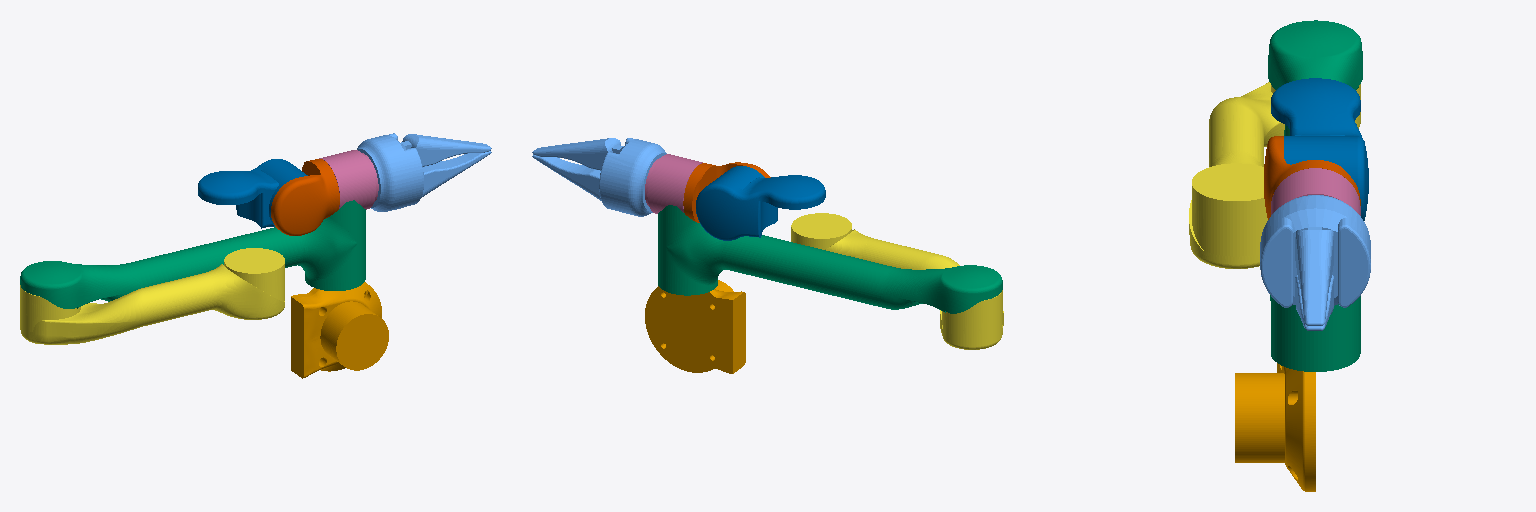
URDF robot description (z1):
<?xml version="1.0" ?>
<!-- =================================================================================== -->
<!-- |    This document was autogenerated by xacro from robot.xacro                    | -->
<!-- |    EDITING THIS FILE BY HAND IS NOT RECOMMENDED                                 | -->
<!-- =================================================================================== -->
<robot name="z1">
  <link name="base_link">
    <visual>
      <origin rpy="0 0 0" xyz="0 0 0"/>
      <geometry>
        <mesh filename="../meshes/z1_Link00_flip.dae" scale="1 1 1"/>
      </geometry>
    </visual>
    <collision>
      <geometry>
        <cylinder length="0.051" radius="0.0325"/>
      </geometry>
      <origin rpy="0 0 0" xyz="0 0 0.0255"/>
    </collision>
    <inertial>
      <origin rpy="0 0 0" xyz="-0.00334984 -0.00013615 0.02495843"/>
      <mass value="0.47247481"/>
      <inertia ixx="0.00037937" ixy="3.5e-07" ixz="1.037e-05" iyy="0.00041521" iyz="9.9e-07" izz="0.00053066"/>
    </inertial>
  </link>
  <joint name="joint1" type="revolute">
    <origin rpy="0 0 0" xyz="0 0 0.0585"/>
    <parent link="base_link"/>
    <child link="link01"/>
    <axis xyz="0 0 1"/>
    <dynamics damping="1.0" friction="1.0"/>
    <limit effort="30.0" lower="-2.6179938779914944" upper="2.6179938779914944" velocity="10"/>
  </joint>
  <link name="link01">
    <visual>
      <origin rpy="0 0 0" xyz="0 0 0"/>
      <geometry>
        <mesh filename="../meshes/z1_Link01_flip.dae" scale="1 1 1"/>
      </geometry>
    </visual>
    <!-- <collision>
            <geometry>
                <cylinder length="${2*motor_height}" radius="${motor_diameter}"/>
            </geometry>
            <origin rpy="0 0 0" xyz="0 0 0"/>
        </collision> -->
    <inertial>
      <origin rpy="0 0 0" xyz="2.47e-06 -0.00025198 0.02317169"/>
      <mass value="0.67332551"/>
      <inertia ixx="0.00128328" ixy="6e-08" ixz="4e-07" iyy="0.00071931" iyz="-5e-07" izz="0.00083936"/>
    </inertial>
  </link>
  <joint name="joint2" type="revolute">
    <origin rpy="0 0 0" xyz="0 0 0.045"/>
    <parent link="link01"/>
    <child link="link02"/>
    <axis xyz="0 1 0"/>
    <dynamics damping="2.0" friction="2.0"/>
    <limit effort="60.0" lower="0.0" upper="3.141592653589793" velocity="10"/>
  </joint>
  <link name="link02">
    <visual>
      <origin rpy="0 0 0" xyz="0 0 0"/>
      <geometry>
        <mesh filename="../meshes/z1_Link02_flip.dae" scale="1 1 1"/>
      </geometry>
    </visual>
    <collision>
      <geometry>
        <cylinder length="0.102" radius="0.0325"/>
      </geometry>
      <origin rpy="1.5707963267948966 0 0" xyz="0 0 0"/>
    </collision>
    <collision>
      <geometry>
        <cylinder length="0.235" radius="0.0225"/>
      </geometry>
      <origin rpy="0 1.5707963267948966 0" xyz="-0.16249999999999998 0 0"/>
    </collision>
    <collision>
      <geometry>
        <cylinder length="0.051" radius="0.0325"/>
      </geometry>
      <origin rpy="1.5707963267948966 0 0" xyz="-0.35 0 0"/>
    </collision>
    <inertial>
      <origin rpy="0 0 0" xyz="-0.11012601 0.00240029 0.00158266"/>
      <mass value="1.19132258"/>
      <inertia ixx="0.00102138" ixy="-0.00062358" ixz="-5.13e-06" iyy="0.02429457" iyz="2.1e-06" izz="0.02466114"/>
    </inertial>
  </link>
  <joint name="joint3" type="revolute">
    <origin rpy="0 0 0" xyz="-0.35 0 0"/>
    <parent link="link02"/>
    <child link="link03"/>
    <axis xyz="0 1 0"/>
    <dynamics damping="1.0" friction="1.0"/>
    <limit effort="30.0" lower="-4.782202150464463" upper="0.0" velocity="10"/>
  </joint>
  <link name="link03">
    <visual>
      <origin rpy="0 0 0" xyz="0 0 0"/>
      <geometry>
        <mesh filename="../meshes/z1_Link03_flip.dae" scale="1 1 1"/>
      </geometry>
    </visual>
    <collision>
      <geometry>
        <cylinder length="0.116" radius="0.02"/>
      </geometry>
      <origin rpy="0 1.5707963267948966 0" xyz="0.128 0 0.055"/>
    </collision>
    <collision>
      <geometry>
        <cylinder length="0.059" radius="0.0325"/>
      </geometry>
      <origin rpy="0 1.5707963267948966 0" xyz="0.2205 0 0.055"/>
    </collision>
    <inertial>
      <origin rpy="0 0 0" xyz="0.10609208 -0.00541815 0.03476383"/>
      <mass value="0.83940874"/>
      <inertia ixx="0.00108061" ixy="8.669e-05" ixz="0.00208102" iyy="0.00954238" iyz="1.332e-05" izz="0.00886621"/>
    </inertial>
  </link>
  <joint name="joint4" type="revolute">
    <origin rpy="0 0 0" xyz="0.218 0 0.057"/>
    <parent link="link03"/>
    <child link="link04"/>
    <axis xyz="0 1 0"/>
    <dynamics damping="1.0" friction="1.0"/>
    <limit effort="30.0" lower="-1.7453292519943295" upper="1.5707963267948966" velocity="10"/>
  </joint>
  <link name="link04">
    <visual>
      <origin rpy="0 0 0" xyz="0 0 0"/>
      <geometry>
        <mesh filename="../meshes/z1_Link04_flip.dae" scale="1 1 1"/>
      </geometry>
    </visual>
    <collision>
      <geometry>
        <cylinder length="0.07" radius="0.0325"/>
      </geometry>
      <origin rpy="0 0 0" xyz="0.07 0 0"/>
    </collision>
    <inertial>
      <origin rpy="0 0 0" xyz="0.04366681 0.00364738 -0.00170192"/>
      <mass value="0.56404563"/>
      <inertia ixx="0.00031576" ixy="-8.13e-05" ixz="-4.091e-05" iyy="0.00092996" iyz="5.96e-06" izz="0.00097912"/>
    </inertial>
  </link>
  <joint name="joint5" type="revolute">
    <origin rpy="0 0 0" xyz="0.07 0.0 0.0"/>
    <parent link="link04"/>
    <child link="link05"/>
    <axis xyz="0 0 1"/>
    <dynamics damping="1.0" friction="1.0"/>
    <limit effort="30.0" lower="-1.7278759594743864" upper="1.7278759594743864" velocity="10"/>
  </joint>
  <link name="link05">
    <visual>
      <origin rpy="0 0 0" xyz="0 0 0"/>
      <geometry>
        <mesh filename="../meshes/z1_Link05_flip.dae" scale="1 1 1"/>
      </geometry>
    </visual>
    <inertial>
      <origin rpy="0 0 0" xyz="0.03121533 0.0 0.00646316"/>
      <mass value="0.38938492"/>
      <inertia ixx="0.00017605" ixy="-4e-07" ixz="-5.689e-05" iyy="0.00055896" iyz="1.3e-07" izz="0.0005386"/>
    </inertial>
  </link>
  <joint name="joint6" type="revolute">
    <origin rpy="0 0 0" xyz="0.0492 0.0 0.0"/>
    <parent link="link05"/>
    <child link="link06"/>
    <axis xyz="1 0 0"/>
    <dynamics damping="1.0" friction="1.0"/>
    <limit effort="30.0" lower="-2.792526803190927" upper="2.792526803190927" velocity="10"/>
  </joint>
  <link name="link06">
    <visual>
      <origin rpy="0 0 0" xyz="0 0 0"/>
      <geometry>
        <mesh filename="../meshes/z1_Link06_flip.dae" scale="1 1 1"/>
      </geometry>
    </visual>
    <collision>
      <geometry>
        <cylinder length="0.051" radius="0.0325"/>
      </geometry>
      <origin rpy="0 1.5707963267948966 0" xyz="0.0255 0 0"/>
    </collision>
    <inertial>
      <origin rpy="0 0 0" xyz="0.0241569 -0.00017355 -0.00143876"/>
      <mass value="0.28875807"/>
      <inertia ixx="0.00018328" ixy="-1.22e-06" ixz="-5.4e-07" iyy="0.0001475" iyz="-8e-08" izz="0.0001468"/>
    </inertial>
  </link>
  <joint name="gripper_stator" type="fixed">
    <origin rpy="0 1.5708 0" xyz="0.05 0.0 0.0"/>
    <parent link="link06"/>
    <child link="gripper_base_link"/>
  </joint>
  <link
    name="gripper_base_link">
    <inertial>
      <origin
        xyz="5.6921E-19 -5.421E-19 0.024436"
        rpy="0 0 0" />
      <mass
        value="0.22324" />
      <inertia
        ixx="0.00013045"
        ixy="-1.2196E-11"
        ixz="-3.2914E-21"
        iyy="0.0001206"
        iyz="4.8288E-21"
        izz="0.00017203" />
    </inertial>
    <visual>
      <origin
        xyz="0 0 0"
        rpy="0 0 0" />
      <geometry>
        <mesh
          filename="../meshes/base_link.STL" />
      </geometry>
      <material
        name="">
        <color
          rgba="0.46667 0.72157 1 1" />
      </material>
    </visual>
    <collision>
      <origin
        xyz="0 0 0"
        rpy="0 0 0" />
      <geometry>
        <mesh
          filename="../meshes/base_link.STL" />
      </geometry>
    </collision>
  </link>
  <link
    name="grip_right">
    <inertial>
      <origin
        xyz="0.041462 0.0042031 -1.3713E-08"
        rpy="0 0 0" />
      <mass
        value="0.041185" />
      <inertia
        ixx="4.1471E-06"
        ixy="-4.0228E-06"
        ixz="2.0933E-11"
        iyy="2.9178E-05"
        iyz="5.9245E-13"
        izz="3.0002E-05" />
    </inertial>
    <visual>
      <origin
        xyz="0 0 0"
        rpy="0 0 0" />
      <geometry>
        <mesh
          filename="../meshes/grip_right.STL" />
      </geometry>
      <material
        name="">
        <color
          rgba="0.46667 0.72157 1 1" />
      </material>
    </visual>
    <collision>
      <origin
        xyz="0 0 0"
        rpy="0 0 0" />
      <geometry>
        <mesh
          filename="../meshes/grip_right.STL" />
      </geometry>
    </collision>
  </link>
  <joint
    name="grip_right"
    type="revolute">
    <origin
      xyz="-0.0198635763879601 -0.000601316762258726 0.038137683616705"
      rpy="-1.5707963267949 -1.5707963267949 0" />
    <parent
      link="gripper_base_link" />
    <child
      link="grip_right" />
    <axis
      xyz="0 0 -1" />
    <limit
      lower="0"
      upper="2"
      effort="2"
      velocity="9" />
  </joint>
  <link
    name="grip_left">
    <inertial>
      <origin
        xyz="0.041462 0.0042031 -1.3713E-08"
        rpy="0 0 0" />
      <mass
        value="0.041185" />
      <inertia
        ixx="4.1471E-06"
        ixy="-4.0228E-06"
        ixz="2.0933E-11"
        iyy="2.9178E-05"
        iyz="5.9245E-13"
        izz="3.0002E-05" />
    </inertial>
    <visual>
      <origin
        xyz="0 0 0"
        rpy="0 0 0" />
      <geometry>
        <mesh
          filename="../meshes/grip_left.STL" />
      </geometry>
      <material
        name="">
        <color
          rgba="0.46667 0.72157 1 1" />
      </material>
    </visual>
    <collision>
      <origin
        xyz="0 0 0"
        rpy="0 0 0" />
      <geometry>
        <mesh
          filename="../meshes/grip_left.STL" />
      </geometry>
    </collision>
  </link>
  <joint
    name="grip_left"
    type="revolute">
    <origin
      xyz="0.0201364236120399 -0.000601316762258726 0.038137683616705"
      rpy="1.5707963267949 -1.5707963267949 0" />
    <parent
      link="gripper_base_link" />
    <child
      link="grip_left" />
    <axis
      xyz="0 0 -1" />
    <limit
      lower="0"
      upper="2"
      effort="2"
      velocity="9" />
  </joint>
  <joint name="gripper_ee" type="fixed">
    <origin rpy="0 -1.5708 0" xyz="0. 0. 0.11"/>
    <parent link="gripper_base_link"/>
    <child link="gripper_ee"/>
  </joint>
  <link name="gripper_ee"/>
</robot>

--- What the picture shows (computed from the rendered views, not written in the file) ---
Views: 3 orthographic renders of the robot side by side, from view 1: azimuth 30°, elevation 25°; view 2: azimuth 150°, elevation 25°; view 3: azimuth 270°, elevation 25°.
Robot: z1 — 11 links, 10 joints (8 revolute, 2 fixed); root link base_link; default pose: all joints at 0.
Links seen in each view (by area): view 1: link02, link03, base_link, link04, link05, gripper_base_link, link06, grip_right, grip_left; view 2: link02, base_link, link03, link04, gripper_base_link, link06, grip_right, link05, grip_left; view 3: link03, link02, base_link, gripper_base_link, link04, grip_right, link06, link05, grip_left.
Boxes of the visible links, x1,y1,x2,y2 form: link02: [20, 200, 365, 308]; link03: [20, 248, 284, 344]; base_link: [291, 282, 388, 378]; link04: [198, 159, 307, 228]; link05: [271, 159, 339, 235]; gripper_base_link: [357, 133, 423, 211]; link06: [319, 150, 378, 209]; grip_right: [401, 134, 491, 166]; grip_left: [421, 151, 491, 197]; link02: [658, 205, 1002, 313]; base_link: [645, 280, 745, 373]; link03: [791, 213, 1003, 349]; link04: [696, 166, 825, 240]; gripper_base_link: [599, 138, 666, 216]; link06: [645, 154, 702, 213]; grip_right: [532, 138, 623, 170]; link05: [683, 162, 770, 222]; grip_left: [532, 155, 600, 200]; link03: [1189, 82, 1360, 268]; link02: [1268, 20, 1362, 371]; base_link: [1235, 363, 1315, 491]; gripper_base_link: [1260, 195, 1370, 307]; link04: [1271, 78, 1368, 220]; grip_right: [1295, 227, 1333, 325]; link06: [1271, 168, 1360, 215]; link05: [1264, 136, 1360, 219]; grip_left: [1295, 275, 1333, 330].
Size in the robot's own frame: 0.5717 by 0.1315 by 0.2537 metres.
9 mesh visuals loaded from 10 distinct referenced files (3 binary STL, 6 Collada DAE); not drawn: 1 (reference not matched to a file when rendering).